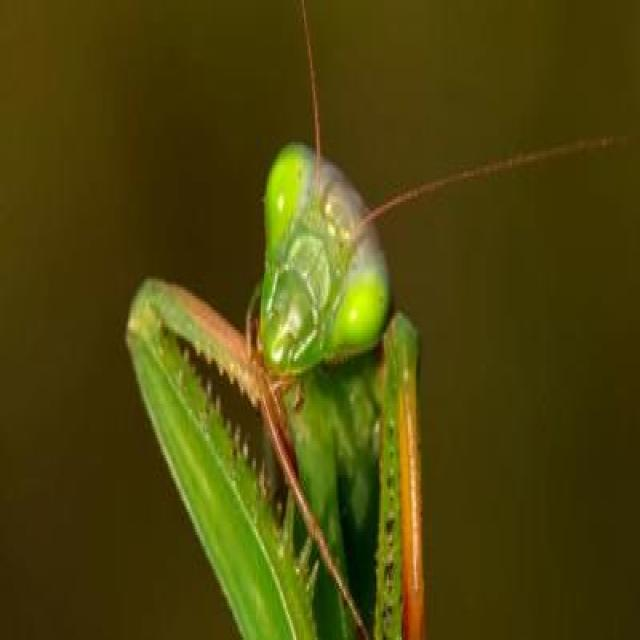antennae: (352, 134, 620, 241), (299, 3, 325, 197)
body: (261, 145, 389, 640)
insect: (120, 0, 632, 640)
legs: (127, 277, 312, 640), (362, 318, 428, 640)
mouthpart: (251, 278, 314, 378)
